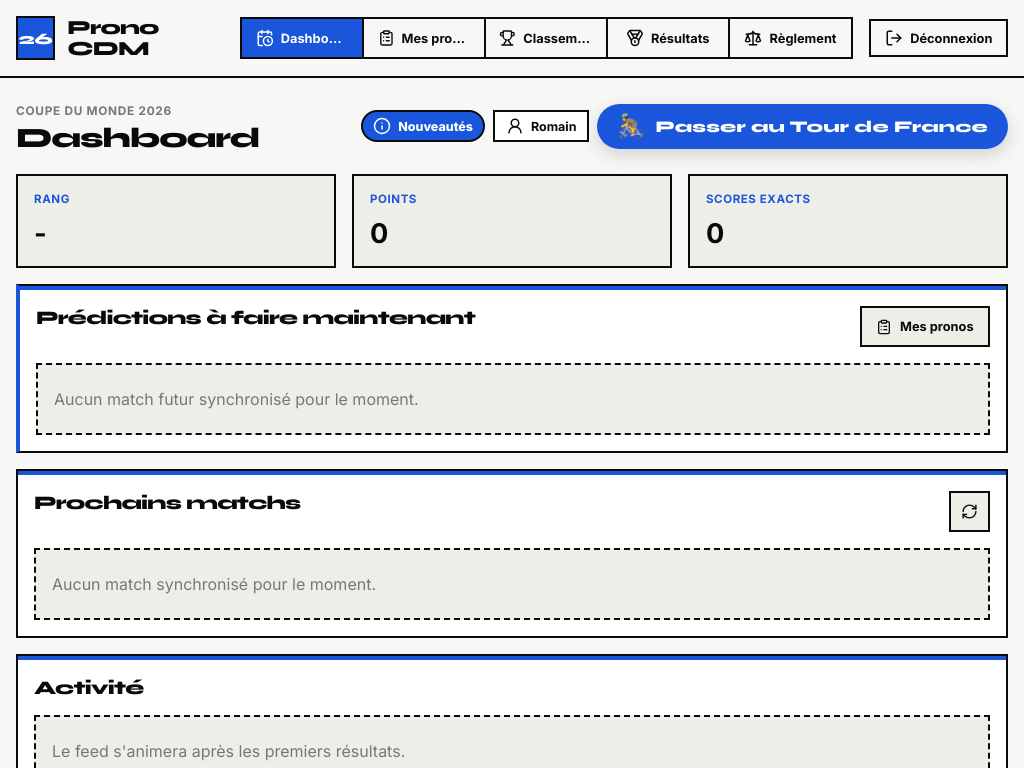
Test: App components › shows locked predictions as non-editable
Expected: the heading "Dashboard" is shown, [16,123,259,154]
Click the button "Mes pronos" in the row of "Prono CDM": (425,38) [364,19,486,57]
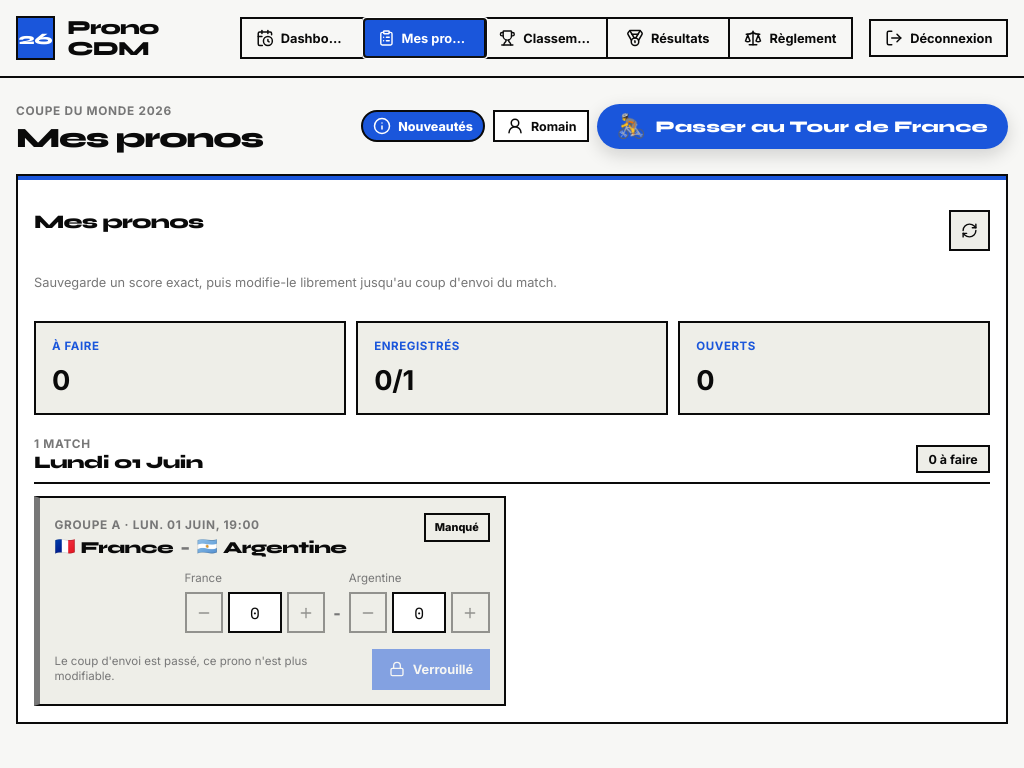
Result: the button "Verrouillé" is disabled at [372,649,490,690]
Result: the field named "Score France" is disabled at [228,592,282,633]
Result: the field named "Score Argentine" is disabled at [392,592,446,633]
